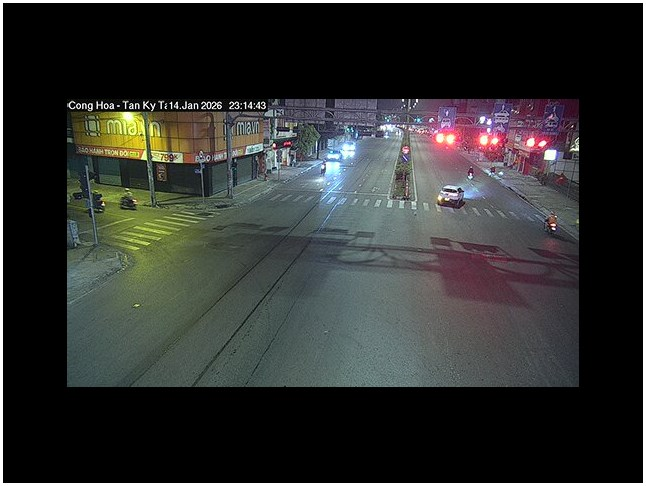car: (436, 186, 466, 211)
motorbike: (118, 188, 137, 211), (545, 212, 560, 233)
